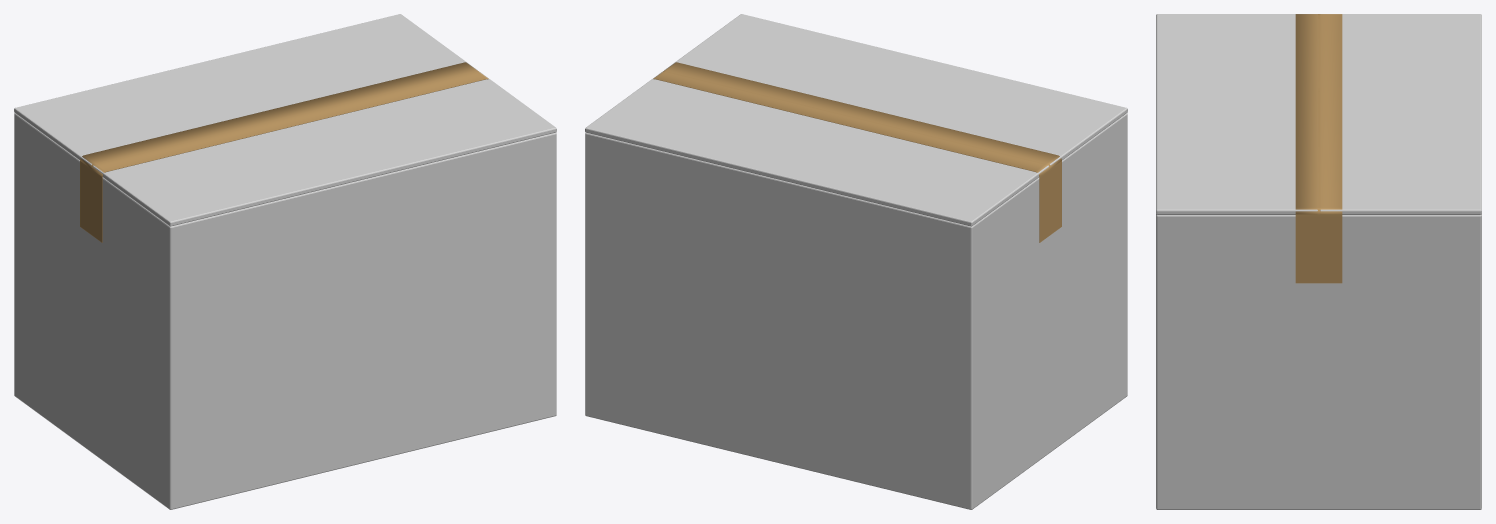
File: CardboardBox.fbx
The picture shows the model from 3 angles, left to right: view 1: azimuth 30°, elevation 25°; view 2: azimuth 150°, elevation 25°; view 3: azimuth 270°, elevation 25°; orthographic projection. The views are drawn at different scales.
Visible parts, largest first — view 1: Box_Body, Flap_Front, Flap_Back, Tape; view 2: Box_Body, Flap_Back, Flap_Front, Tape; view 3: Box_Body, Flap_Back, Flap_Front, Tape.
Boxes of the visible parts, left/top/right/bottom form: Box_Body: left=14, top=113, right=556, bottom=509; Flap_Front: left=92, top=71, right=556, bottom=226; Flap_Back: left=14, top=14, right=477, bottom=165; Tape: left=80, top=62, right=488, bottom=242; Box_Body: left=585, top=113, right=1127, bottom=509; Flap_Back: left=585, top=71, right=1049, bottom=226; Flap_Front: left=664, top=14, right=1127, bottom=165; Tape: left=653, top=62, right=1061, bottom=242; Box_Body: left=1156, top=214, right=1481, bottom=509; Flap_Back: left=1320, top=14, right=1481, bottom=214; Flap_Front: left=1156, top=14, right=1317, bottom=214; Tape: left=1295, top=14, right=1342, bottom=283.
Bounding box in the file's own units: 100 × 71.4 × 70.
